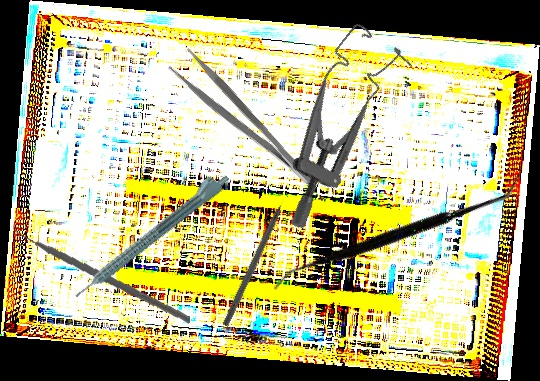Chopper: (11, 198, 191, 339)
Dressing Forceps: (166, 45, 318, 200)
Handpiece: (66, 165, 233, 303)
Hook Surgical: (221, 187, 294, 328)
Spatula Surgical: (270, 96, 524, 369)
Speculum: (234, 18, 428, 232)
